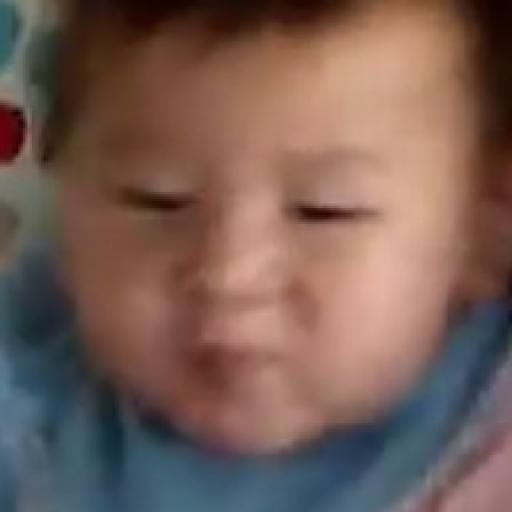Autism: (56, 27, 456, 476)
